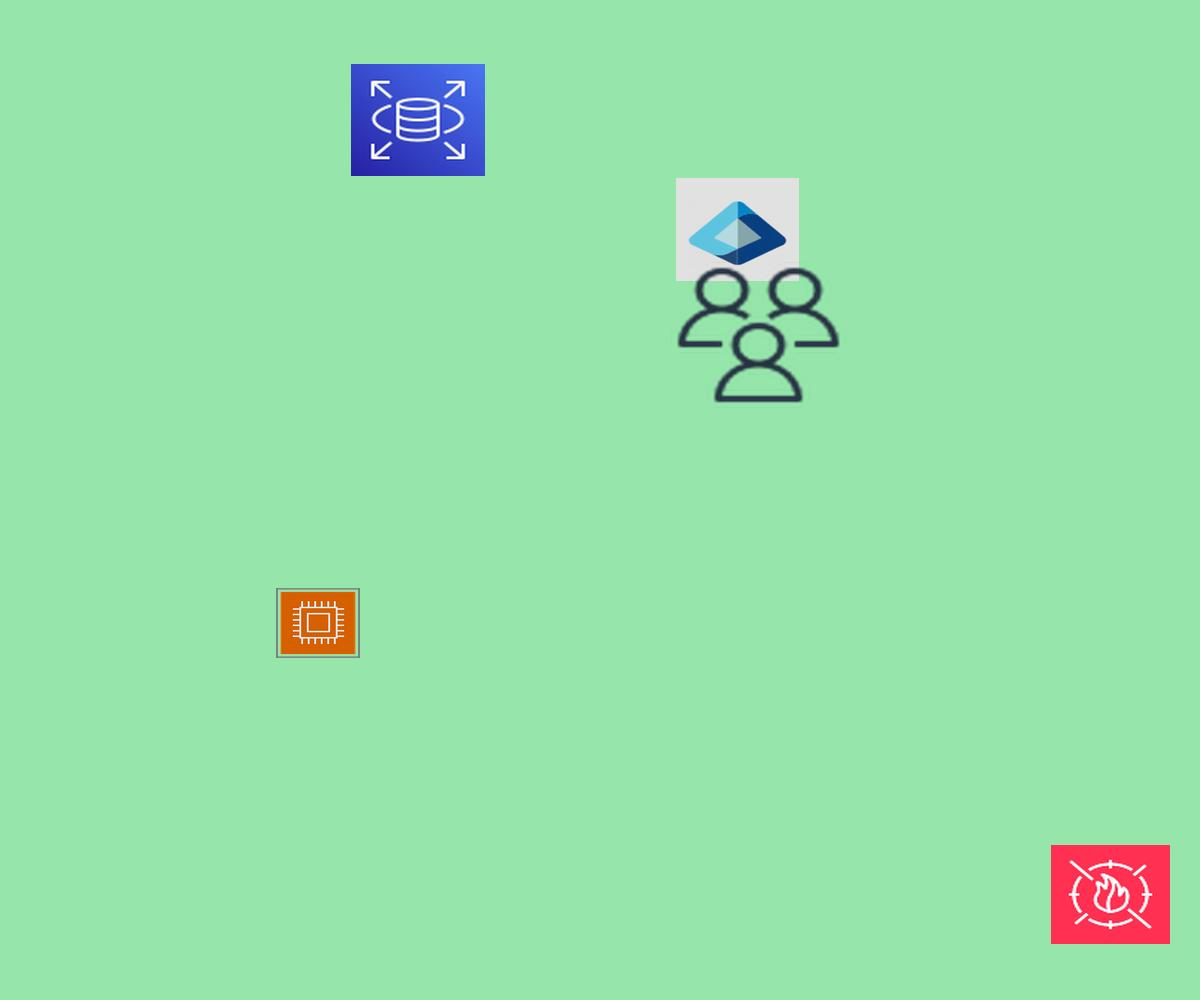AWS-Category_Compute: (276, 588, 360, 658)
AWS-RDS: (351, 64, 485, 176)
AWS-Res_Users: (671, 262, 846, 408)
AWS-WAF: (1051, 845, 1170, 944)
Azure_microsoft_entra: (676, 178, 799, 281)
